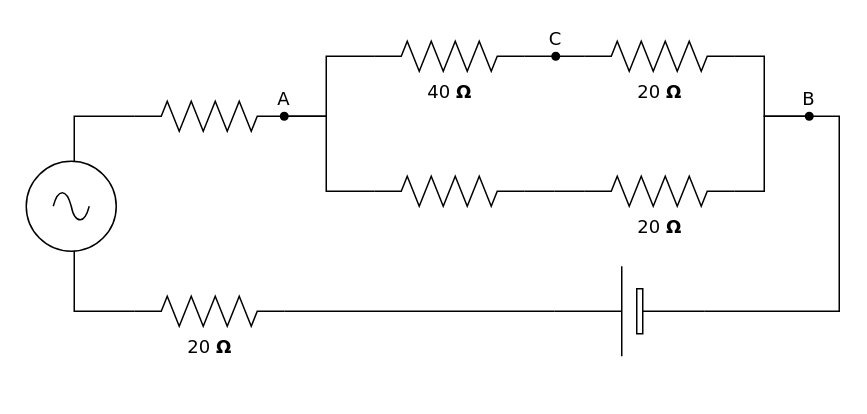
Image size: 867x414. Some labels were removed from this diagram. Here are the shapes that lost their labels. From the top down, the box of each, then its label:
(133, 100, 284, 131): 50 Ω
(373, 175, 524, 206): 70 Ω
(553, 265, 704, 356): 220 V
